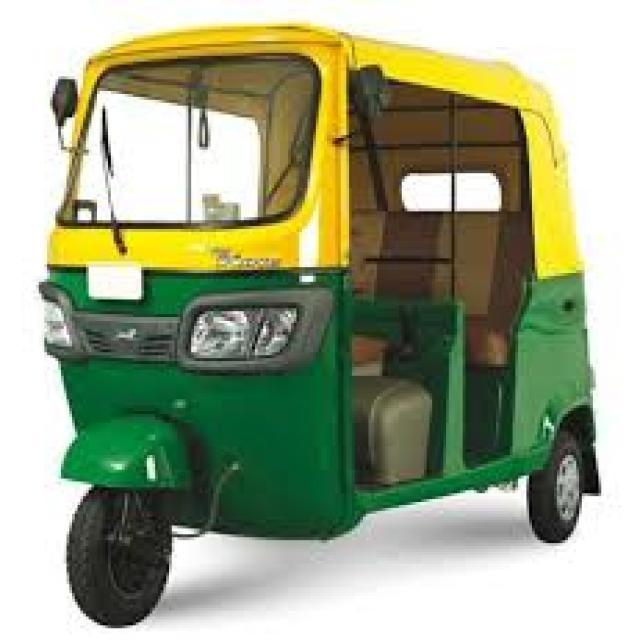auto_front: (22, 26, 622, 619)
